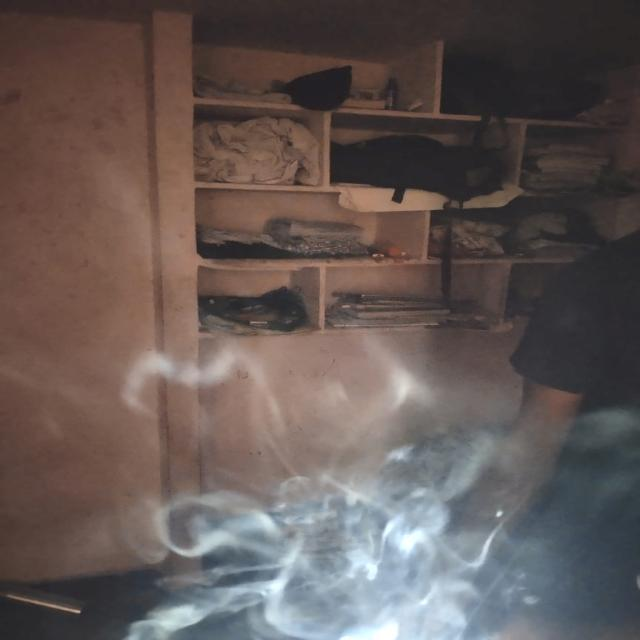fire: (118, 435, 546, 640)
